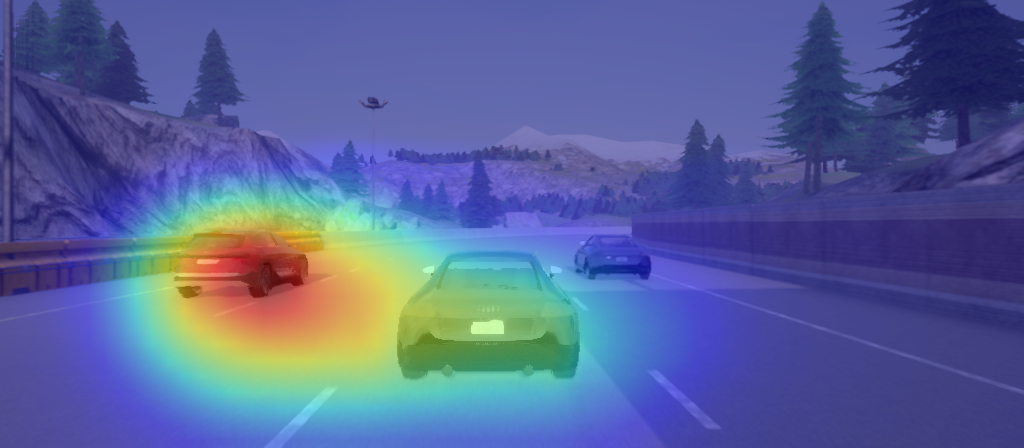Barrier: (673, 199, 1014, 271), (13, 242, 163, 277)
Car: (392, 248, 584, 385), (170, 229, 315, 301), (571, 231, 657, 284)
Lane Marker: (256, 382, 349, 448), (643, 362, 728, 434), (209, 298, 264, 320), (570, 291, 593, 316), (316, 271, 341, 285)
Light Pole: (356, 90, 391, 232), (1, 2, 20, 245)
